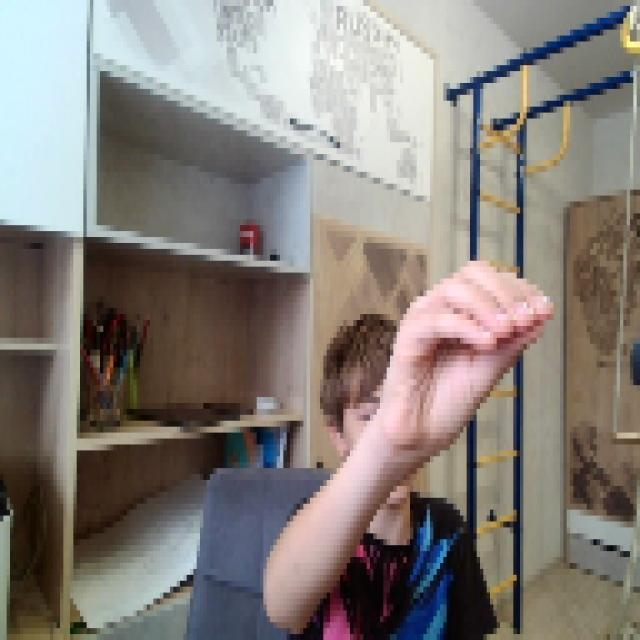left_click: (380, 249, 553, 444)
